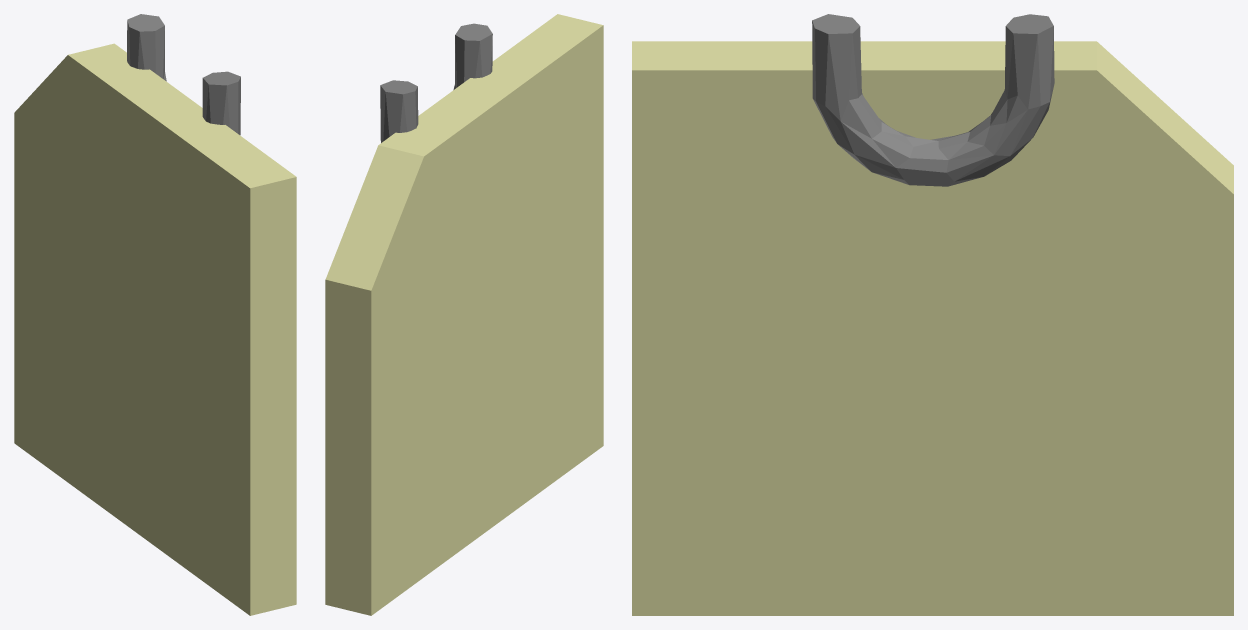
Rendered from post-it.glb.
3 renders of one model, left to right at view 1: azimuth 30°, elevation 25°; view 2: azimuth 150°, elevation 25°; view 3: azimuth 270°, elevation 25°, orthographic. The views are drawn at different scales.
Parts seen in each view (by area): view 1: Cube, Torus; view 2: Cube, Torus; view 3: Cube, Torus.
Part boxes in pixels (x1,y1,x2,y2): Cube: (14, 43, 296, 615); Torus: (127, 14, 240, 135); Cube: (325, 14, 603, 615); Torus: (380, 23, 492, 142); Cube: (632, 41, 1233, 615); Torus: (812, 14, 1054, 186).
Size of the model in its own units: 0.3341 by 2.19 by 2.
